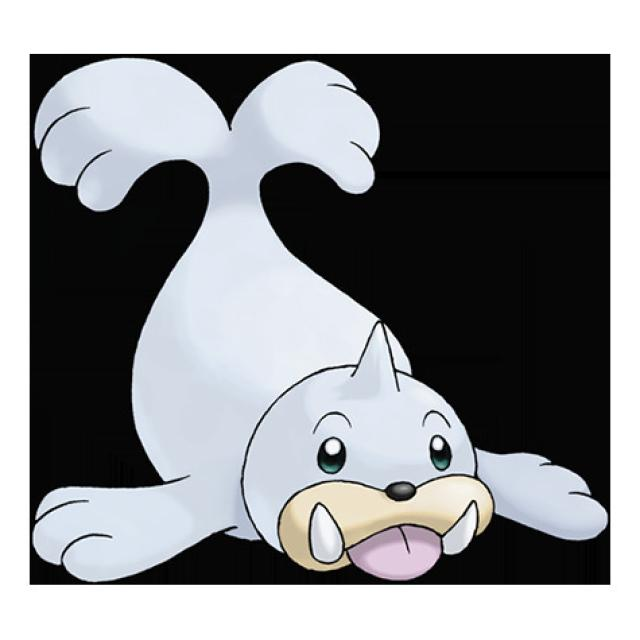Seel: (33, 58, 611, 586)
